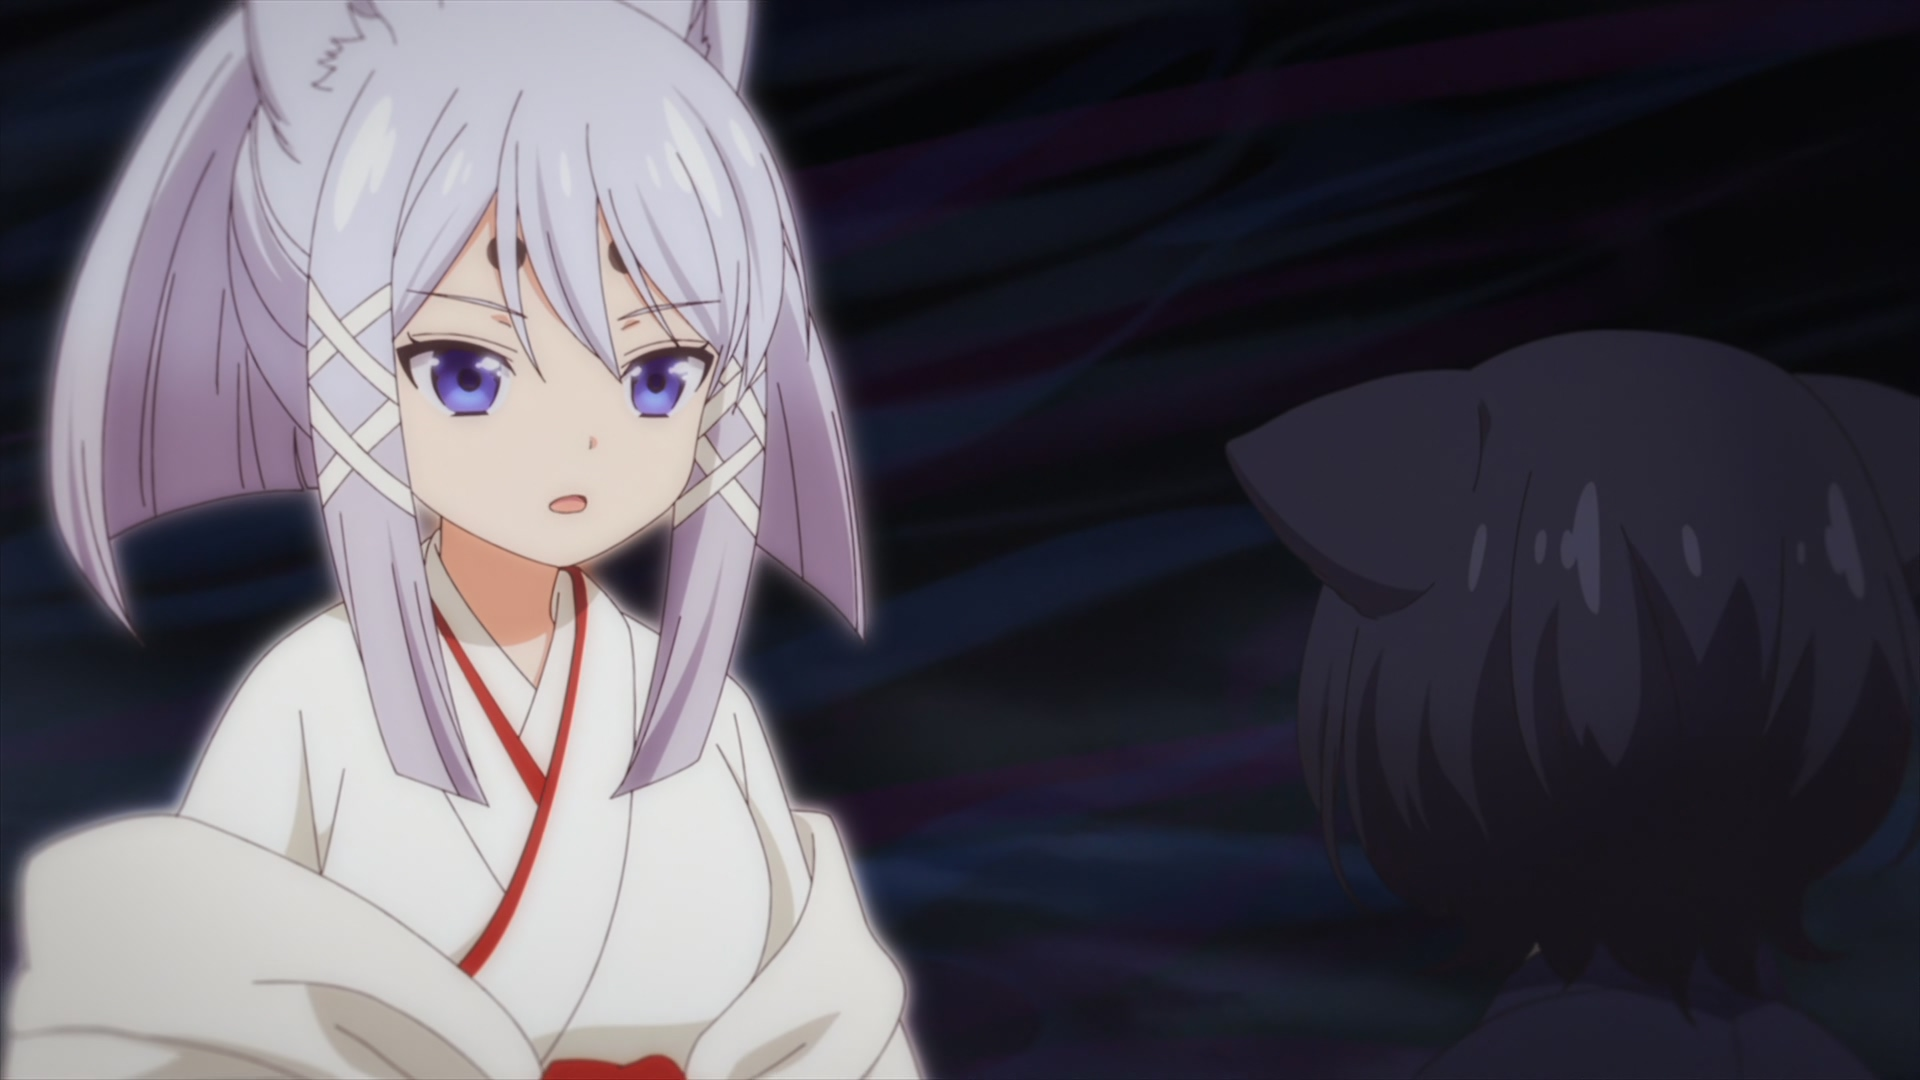柊: (1, 1, 924, 1080)
皋: (1225, 332, 1920, 1080)
